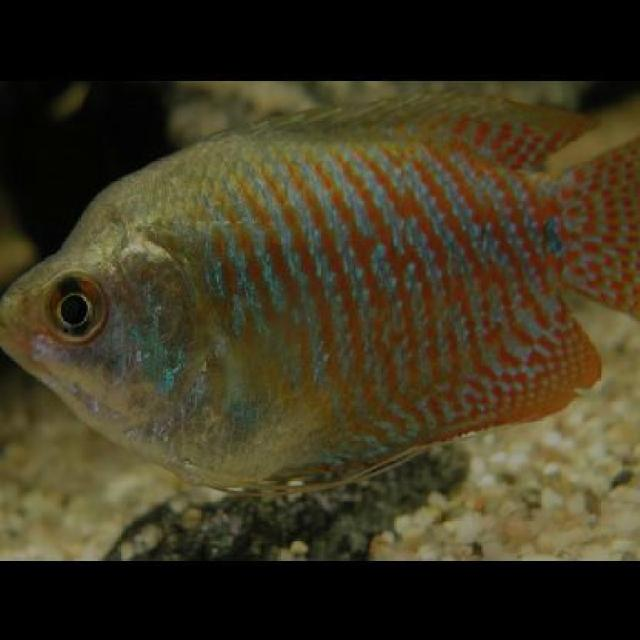Gourami: (0, 89, 638, 504)
